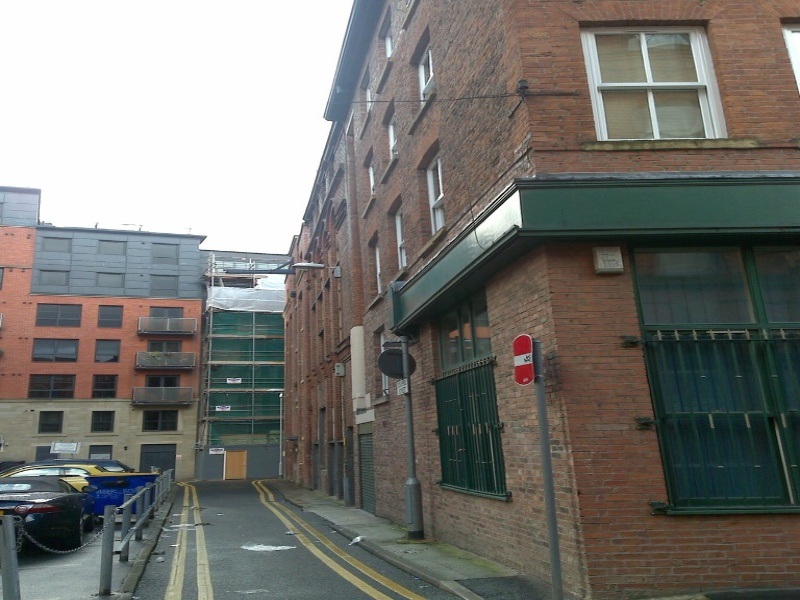no_entry: (510, 332, 536, 390)
